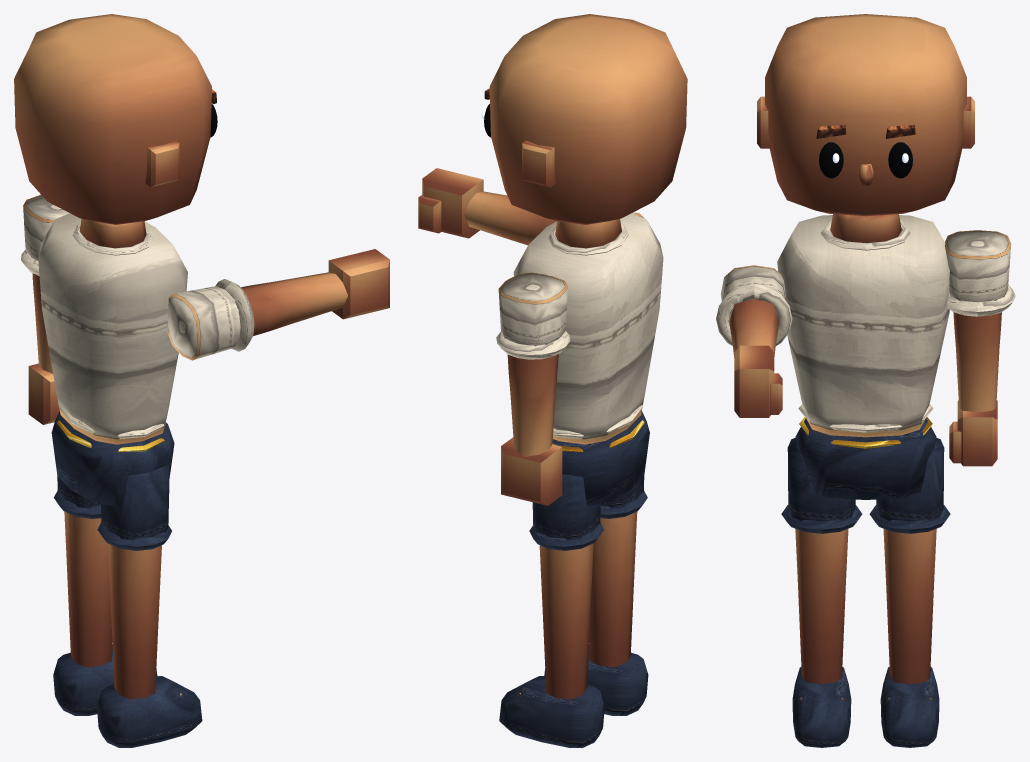
The model's file is body.glb.
3 renders of one model, left to right at view 1: azimuth 30°, elevation 25°; view 2: azimuth 150°, elevation 25°; view 3: azimuth 270°, elevation 25°, orthographic.
Visible parts, largest first — view 1: head, chest, leg_R, arm_R, leg_L, hips, foot_R, hand_R, arm_L, foot_L, hand_L; view 2: head, chest, leg_L, arm_L, leg_R, foot_L, hips, hand_R, hand_L, arm_R, foot_R; view 3: head, chest, leg_R, leg_L, arm_L, hips, arm_R, foot_L, foot_R, hand_R, hand_L.
Boxes of the visible parts, <box> form: head: <box>14,14,217,224</box>; chest: <box>38,213,187,444</box>; leg_R: <box>97,464,171,699</box>; arm_R: <box>167,272,347,360</box>; leg_L: <box>54,476,112,667</box>; hips: <box>51,411,174,505</box>; foot_R: <box>97,676,202,747</box>; hand_R: <box>328,249,389,319</box>; arm_L: <box>21,194,69,373</box>; foot_L: <box>53,644,157,715</box>; hand_L: <box>28,363,59,424</box>; head: <box>481,14,687,224</box>; chest: <box>513,213,663,444</box>; leg_L: <box>529,474,603,699</box>; arm_L: <box>496,272,570,456</box>; leg_R: <box>589,476,647,667</box>; foot_L: <box>499,676,604,747</box>; hips: <box>552,411,649,505</box>; hand_R: <box>418,168,483,238</box>; hand_L: <box>501,437,562,505</box>; arm_R: <box>464,191,644,245</box>; foot_R: <box>544,644,648,715</box>; head: <box>757,14,974,216</box>; chest: <box>777,214,949,437</box>; leg_R: <box>781,437,862,683</box>; leg_L: <box>869,437,950,683</box>; arm_L: <box>945,230,1015,412</box>; hips: <box>795,417,936,499</box>; arm_R: <box>716,265,792,357</box>; foot_L: <box>880,667,939,747</box>; foot_R: <box>792,667,851,747</box>; hand_R: <box>734,345,782,417</box>; hand_L: <box>949,400,997,466</box>.
Size of the model in its own units: 0.5823 by 1.29 by 0.51.
Materials: 9 (9 with a texture image).
